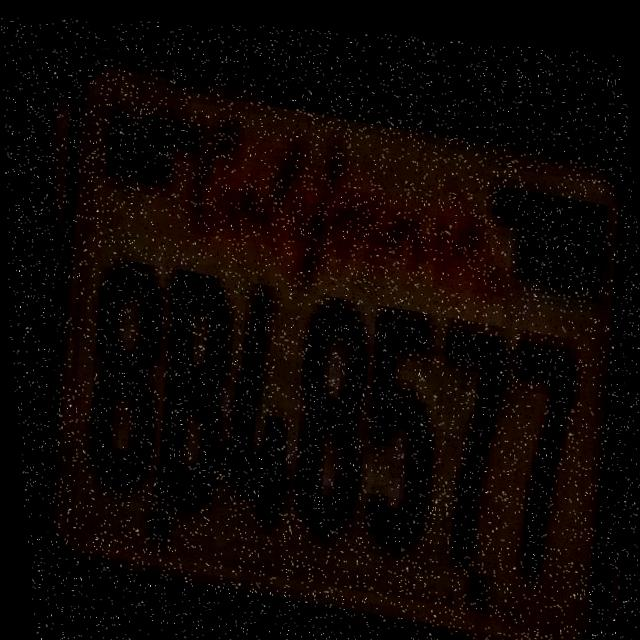LicensePlate: (16, 27, 640, 640)
